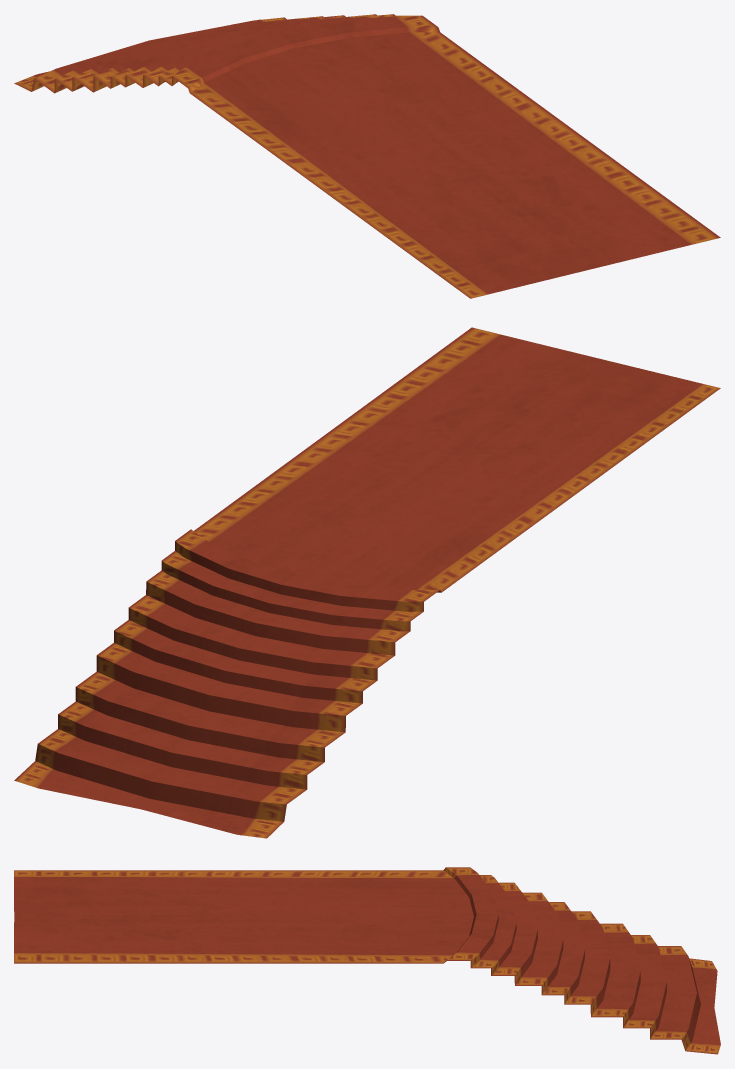
File: Footcloth01_Maincity_001.FBX
3 renders of one model, top to bottom at view 1: azimuth 30°, elevation 25°; view 2: azimuth 150°, elevation 25°; view 3: azimuth 270°, elevation 25°, orthographic. The views are drawn at different scales.
Visible parts, largest first — view 1: Footcloth01_Maincity_001; view 2: Footcloth01_Maincity_001; view 3: Footcloth01_Maincity_001.
Boxes of the visible parts, x1=… form: Footcloth01_Maincity_001: x1=14, y1=14, x2=720, y2=298; Footcloth01_Maincity_001: x1=14, y1=327, x2=720, y2=838; Footcloth01_Maincity_001: x1=14, y1=867, x2=720, y2=1054.
Size of the model in its own units: 163 by 76.16 by 521.
1 material, 1 textured.
